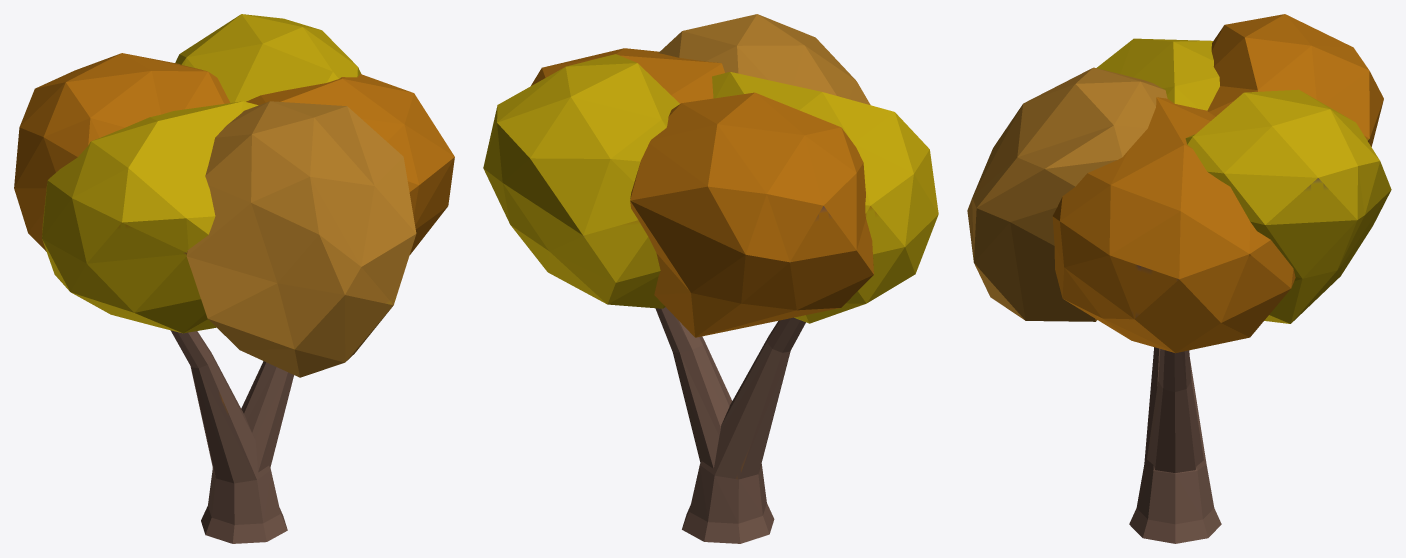
The model's file is split_trunk_deciduous_tree_yellow_leaves.obj.
3 views of the same model, side by side, from view 1: azimuth 30°, elevation 25°; view 2: azimuth 150°, elevation 25°; view 3: azimuth 270°, elevation 25° (orthographic). The views are drawn at different scales.
Parts seen in each view (by area): view 1: Split_trunk_deciduous_tree_yellow_leaves; view 2: Split_trunk_deciduous_tree_yellow_leaves; view 3: Split_trunk_deciduous_tree_yellow_leaves.
Boxes of the visible parts, x1,y1,x2,y2 form: Split_trunk_deciduous_tree_yellow_leaves: (14,14,454,543); Split_trunk_deciduous_tree_yellow_leaves: (483,14,938,543); Split_trunk_deciduous_tree_yellow_leaves: (967,14,1391,543).
Bounding box in the file's own units: 2.36 × 2.63 × 2.21.
Materials: 1 (1 with a texture image).
